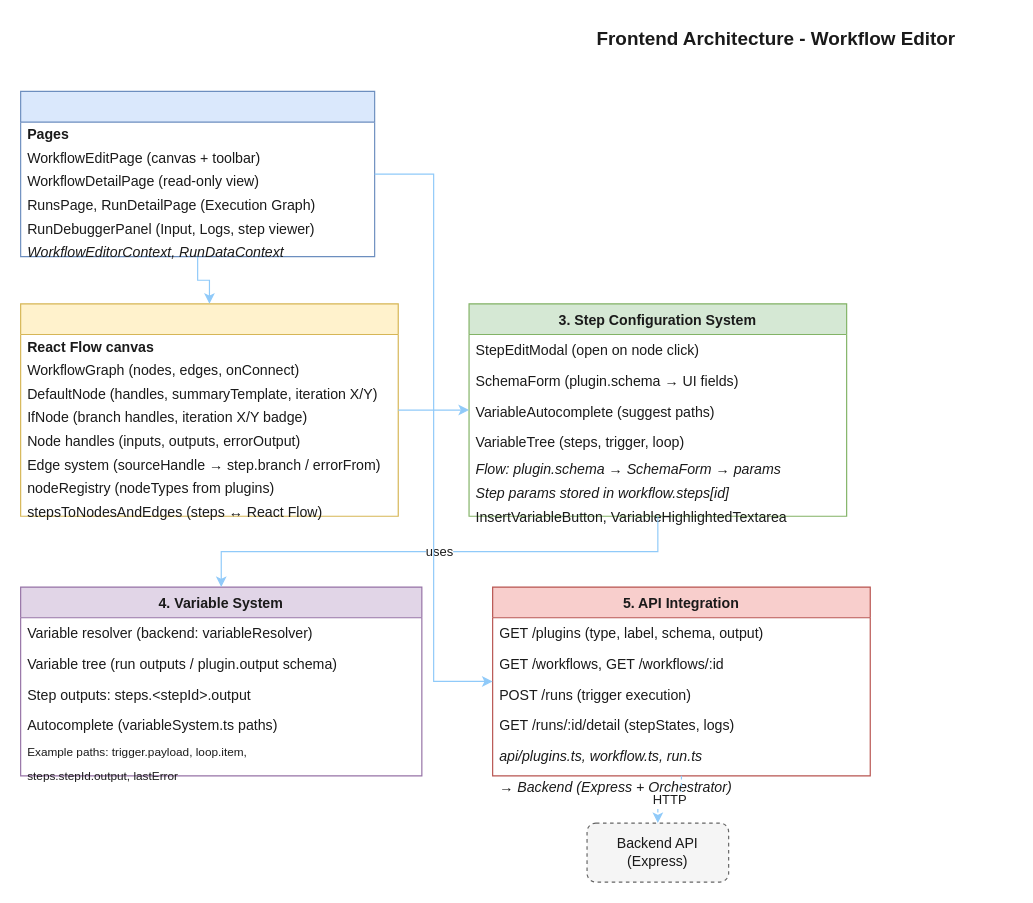
The diagram is 1033 pixels wide and 903 high, and some of its shapes have lost their labels. The box of each missing label's shape, as (x1, y1, x2, y2) in pixels:
1. React Application: (19, 90, 375, 257)
2. Workflow Editor (React Flow): (19, 303, 398, 516)
